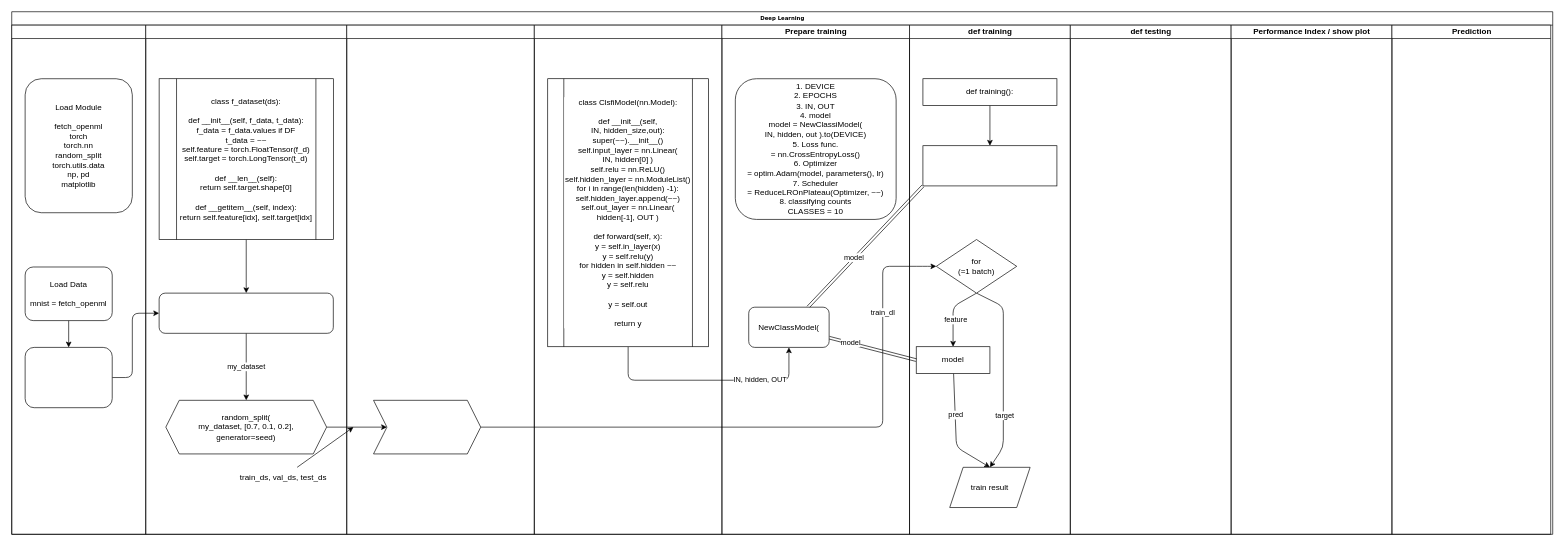
This 1564x546 diagram has some shape labels left out. The box of each missing label's shape, as (x1, y1, x2, y2) in pixels:
1. Load Data: (11, 24, 146, 534)
2. DataSet: (145, 24, 347, 534)
3, DataLoader: (346, 24, 534, 534)
DataLoader( ds, batch_size ): (373, 400, 481, 454)
feature = mnist.data target = mnist.target: (24, 347, 112, 408)
Model Class: (534, 24, 722, 534)
model.train() train_report = [[], [], []]: (922, 145, 1057, 186)
my_dataset = f_dataset(feature, target): (158, 292, 333, 333)
